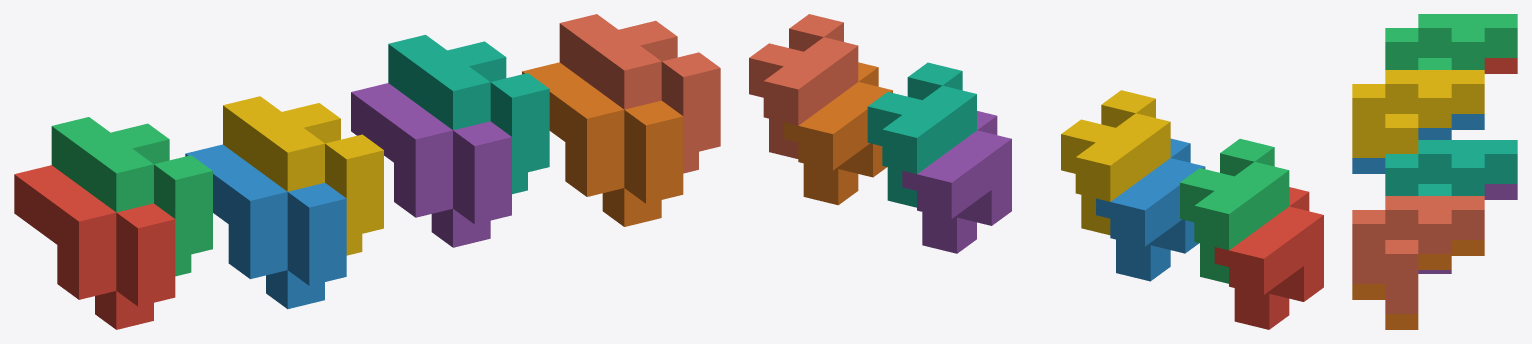
File: tiling.obj
3 renders of one model, left to right at view 1: azimuth 30°, elevation 25°; view 2: azimuth 150°, elevation 25°; view 3: azimuth 270°, elevation 25°, orthographic. The views are drawn at different scales.
Parts seen in each view (by area): view 1: copy_1_domain_1, copy_1_domain_5, copy_1_domain_6, copy_1_domain_2, copy_1_domain_3, copy_1_domain_7, copy_1_domain_8, copy_1_domain_4; view 2: copy_1_domain_1, copy_1_domain_5, copy_1_domain_7, copy_1_domain_4, copy_1_domain_8, copy_1_domain_3, copy_1_domain_6, copy_1_domain_2; view 3: copy_1_domain_8, copy_1_domain_4, copy_1_domain_3, copy_1_domain_7, copy_1_domain_6, copy_1_domain_2, copy_1_domain_5, copy_1_domain_1.
Boxes of the visible parts, <box> form: copy_1_domain_1: <box>14,165,175,329</box>; copy_1_domain_5: <box>351,83,511,247</box>; copy_1_domain_6: <box>522,62,683,226</box>; copy_1_domain_2: <box>185,144,346,309</box>; copy_1_domain_3: <box>51,117,212,276</box>; copy_1_domain_7: <box>388,34,549,194</box>; copy_1_domain_8: <box>559,14,720,173</box>; copy_1_domain_4: <box>223,96,383,255</box>; copy_1_domain_1: <box>1214,187,1323,329</box>; copy_1_domain_5: <box>902,111,1011,253</box>; copy_1_domain_7: <box>867,62,976,207</box>; copy_1_domain_4: <box>1061,90,1170,235</box>; copy_1_domain_8: <box>749,14,858,158</box>; copy_1_domain_3: <box>1180,138,1289,283</box>; copy_1_domain_6: <box>783,62,892,205</box>; copy_1_domain_2: <box>1096,138,1205,281</box>; copy_1_domain_8: <box>1352,196,1484,313</box>; copy_1_domain_4: <box>1352,70,1484,157</box>; copy_1_domain_3: <box>1385,14,1517,69</box>; copy_1_domain_7: <box>1385,140,1517,195</box>; copy_1_domain_6: <box>1352,240,1484,329</box>; copy_1_domain_2: <box>1352,114,1484,173</box>; copy_1_domain_5: <box>1418,184,1517,273</box>; copy_1_domain_1: <box>1484,58,1517,73</box>.
Bounding box in the file's own units: 16 × 4 × 5.
